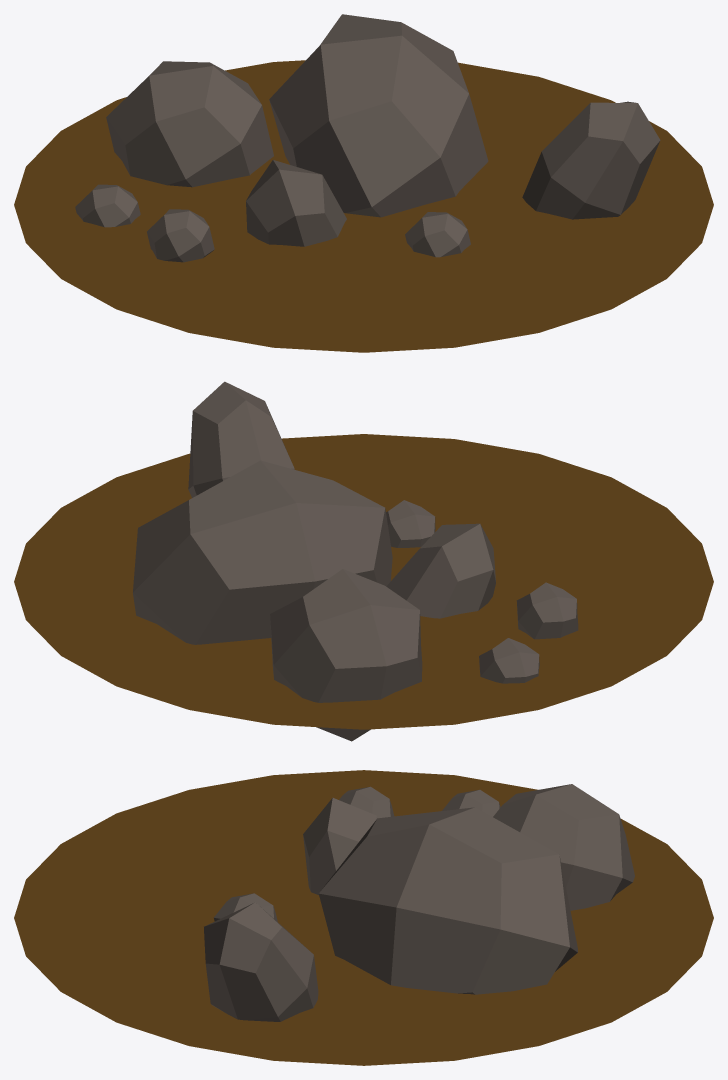
Rendered from Spike3.fbx.
3 views of the same model, one above another, from view 1: azimuth 30°, elevation 25°; view 2: azimuth 150°, elevation 25°; view 3: azimuth 270°, elevation 25° (orthographic).
Parts seen in each view (by area): view 1: pDisc4, pCube40, pCube41, pCube42, pCube44, pCube39, pCube43, pCube38; view 2: pDisc4, pCube40, pCube41, pCube42, pCube44, pCube39, pCube38, pCube43; view 3: pDisc4, pCube40, pCube42, pCube41, pCube44, pCube39, pCube38, pCube43.
Boxes of the visible parts, x1,y1,x2,y2 form: pDisc4: (14, 60, 713, 352); pCube40: (269, 14, 488, 217); pCube41: (106, 61, 273, 187); pCube42: (522, 101, 660, 219); pCube44: (246, 160, 346, 246); pCube39: (147, 209, 214, 262); pCube43: (405, 212, 470, 257); pCube38: (75, 184, 140, 227); pDisc4: (14, 434, 713, 729); pCube40: (133, 460, 392, 644); pCube41: (270, 569, 422, 741); pCube42: (188, 381, 294, 497); pCube44: (386, 523, 495, 618); pCube39: (516, 582, 578, 639); pCube38: (479, 638, 539, 683); pCube43: (386, 500, 435, 547); pDisc4: (14, 770, 713, 1065); pCube40: (318, 807, 577, 994); pCube42: (204, 902, 318, 1021); pCube41: (493, 784, 634, 910); pCube44: (303, 798, 377, 894); pCube39: (339, 786, 394, 818); pCube38: (442, 789, 500, 816); pCube43: (214, 893, 277, 921).
Size of the model in its own units: 2 by 0.7622 by 2.
